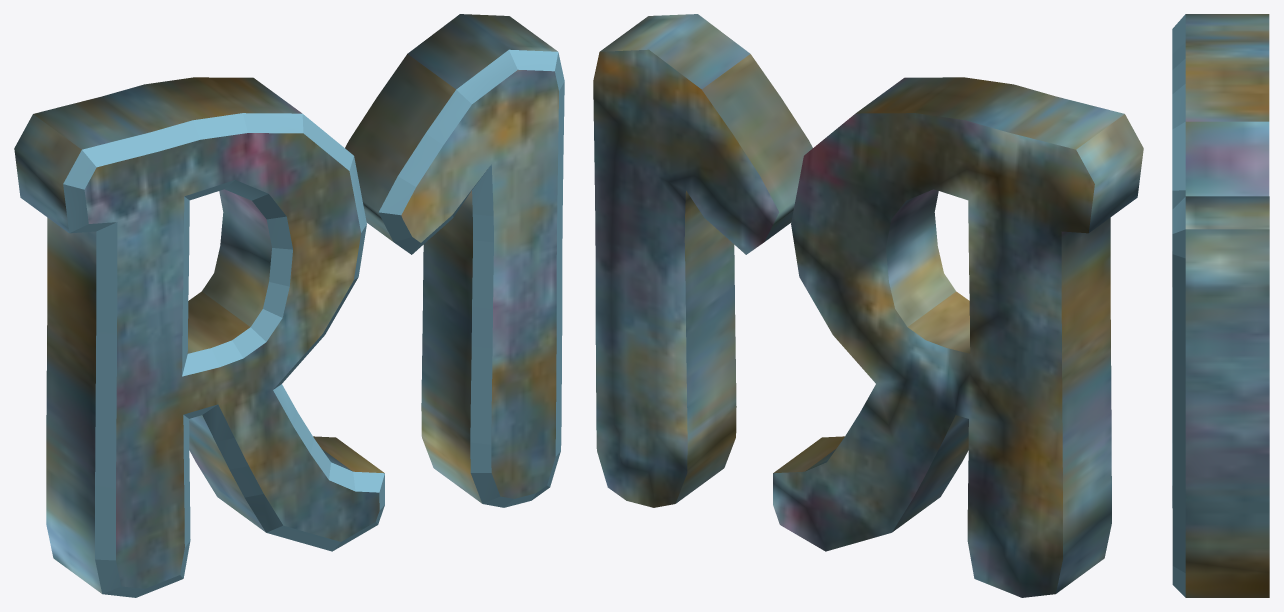
File: button-r01.glb
3 views of the same model, side by side, from view 1: azimuth 30°, elevation 25°; view 2: azimuth 150°, elevation 25°; view 3: azimuth 270°, elevation 25° (orthographic). The views are drawn at different scales.
Visible parts, largest first — view 1: ButtonR01; view 2: ButtonR01; view 3: ButtonR01.
Boxes of the visible parts, bbox=[...] form: ButtonR01: bbox=[14, 14, 564, 597]; ButtonR01: bbox=[593, 14, 1143, 597]; ButtonR01: bbox=[1172, 14, 1269, 597].
Size of the model in its own units: 0.1916 by 0.1699 by 0.0374.
1 material, 1 textured.
